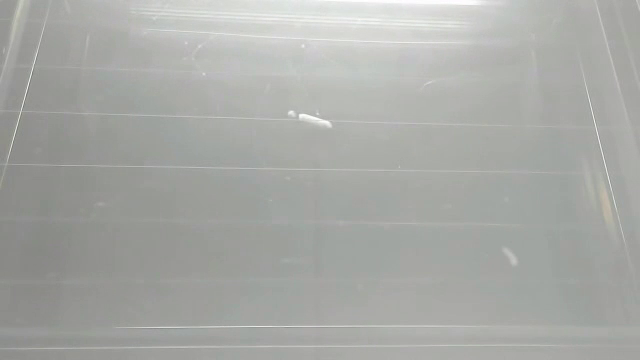alpha: (284, 105, 338, 132), (496, 244, 524, 269)
